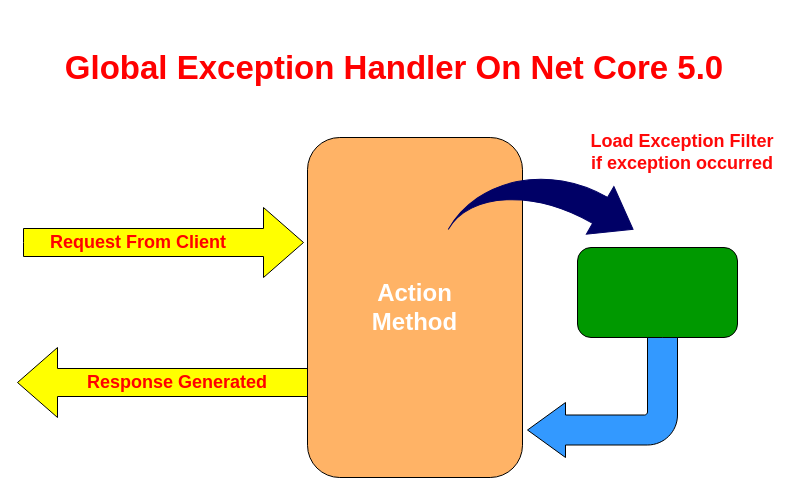
Image size: 805x495. Some labels were removed from this diagram. The shapes that lost their labels are listed below. From the top down, each one's centre as x and y in pixels, then its label:
pixel 657 292: Exception Filter
pixel 602 397: Http Response Exception
